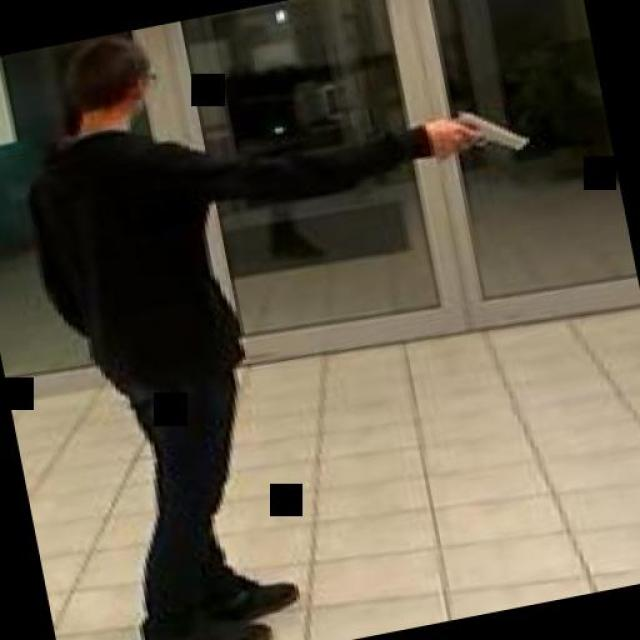gun: (423, 92, 532, 168)
